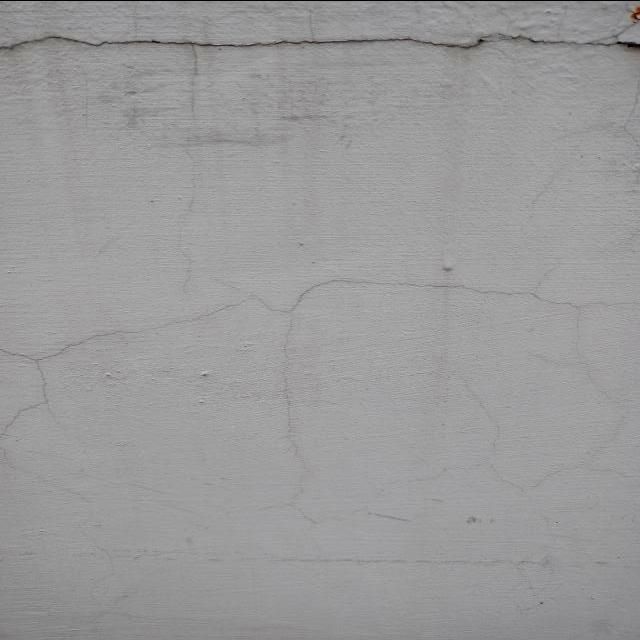SurfaceCrack: (0, 0, 639, 95)
